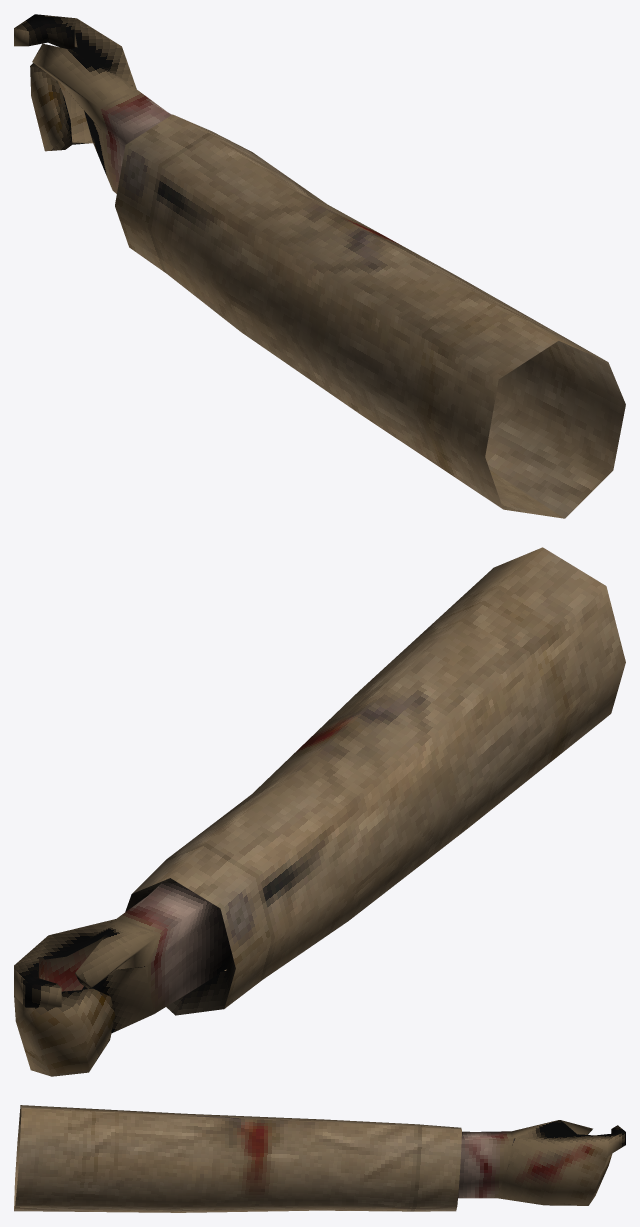
File: hand.gltf
3 views of the same model, one above another, from view 1: azimuth 30°, elevation 25°; view 2: azimuth 150°, elevation 25°; view 3: azimuth 270°, elevation 25° (orthographic). The views are drawn at different scales.
Parts seen in each view (by area): view 1: hand; view 2: hand; view 3: hand.
Boxes of the visible parts, <box> form: hand: <box>14,14,625,518</box>; hand: <box>14,547,625,1076</box>; hand: <box>14,1105,625,1212</box>.
Size of the model in its own units: 0.13 by 0.1567 by 0.8172.
Materials: 1 (1 with a texture image).
